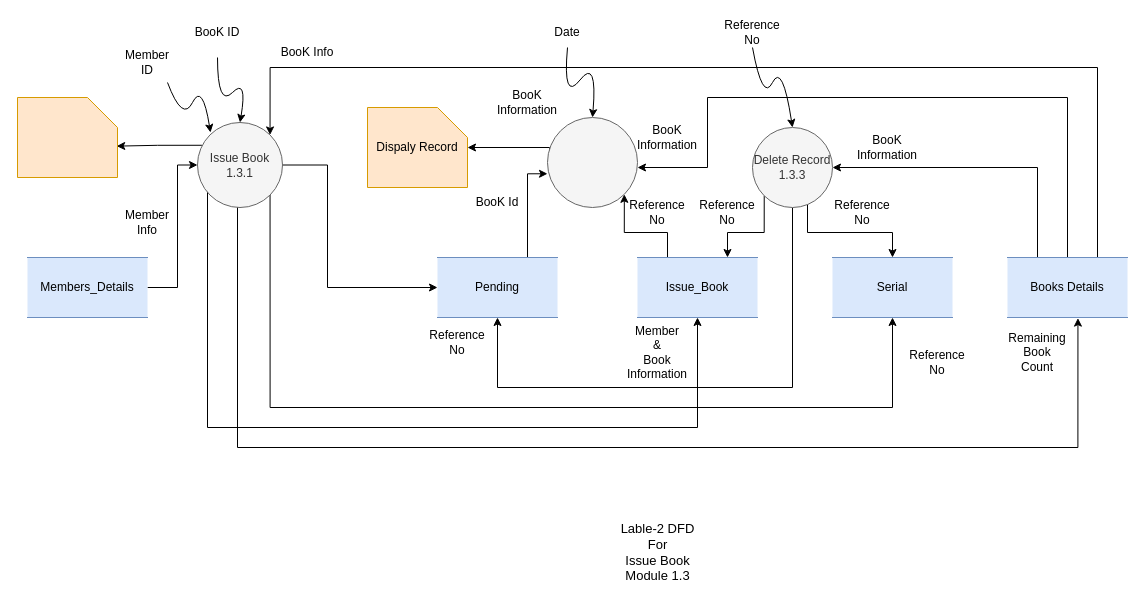
This 1145x600 diagram has some shape labels left out. The centre of each missing label's shape, as x and y in pixels:
Generate Referance Number: (67,137)
Particular Day Record 1.3.2: (592,162)
